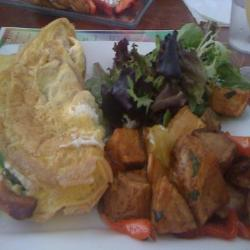omelette: (4, 21, 111, 217)
salad: (95, 26, 236, 115)
